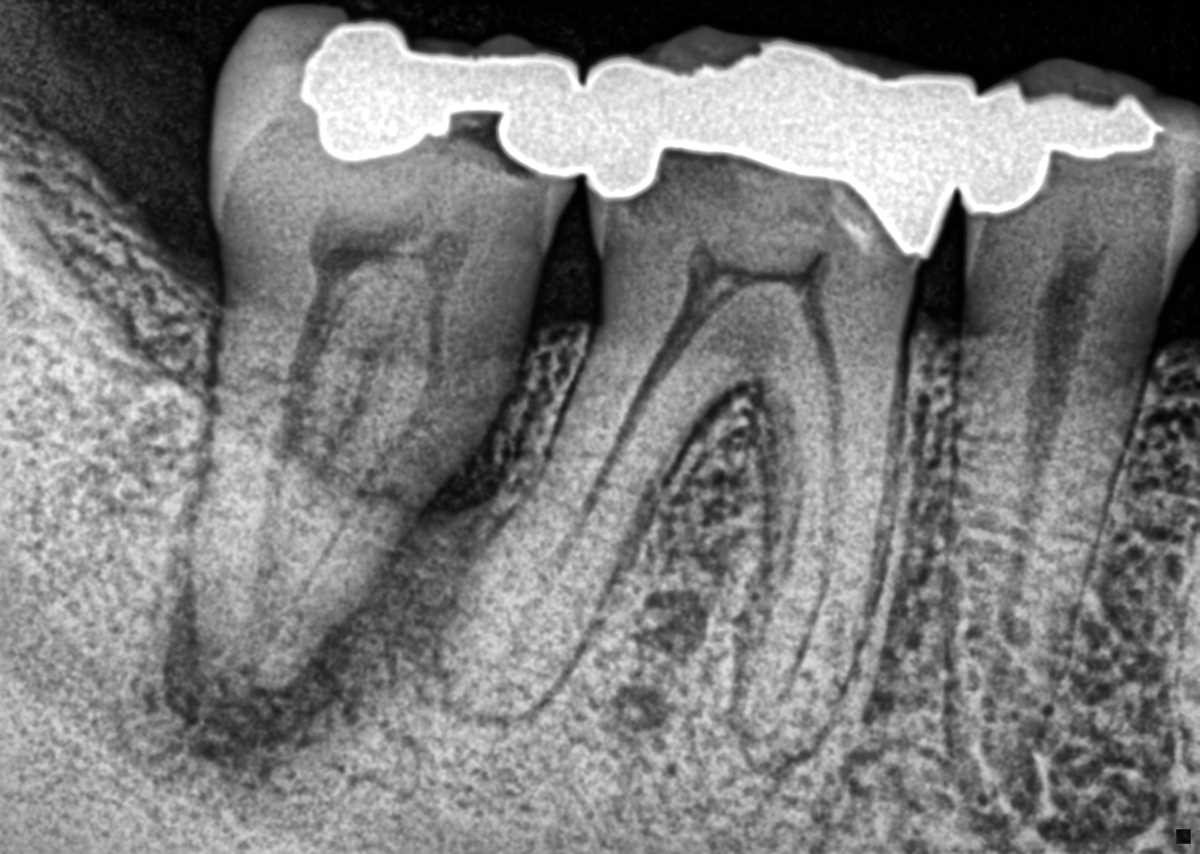Apical Lesion: (163, 391, 547, 772)
Distal Canal: (524, 307, 709, 612), (256, 307, 337, 642)
Distal Root: (439, 325, 726, 723)
Main Canal: (982, 321, 1091, 759)
Main Root: (188, 280, 524, 684), (946, 334, 1150, 809)
Mesial Canal: (280, 321, 442, 635), (778, 334, 846, 707)
Mesial Root: (729, 347, 902, 766)
